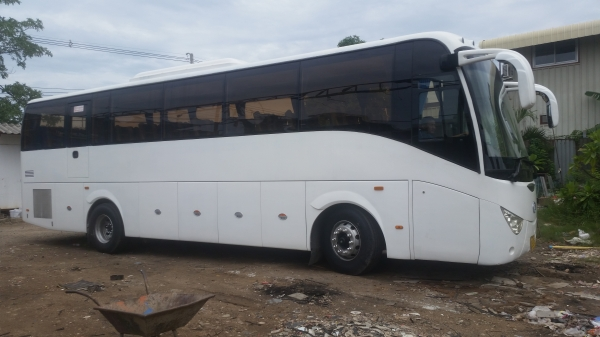bus: (20, 31, 540, 275)
